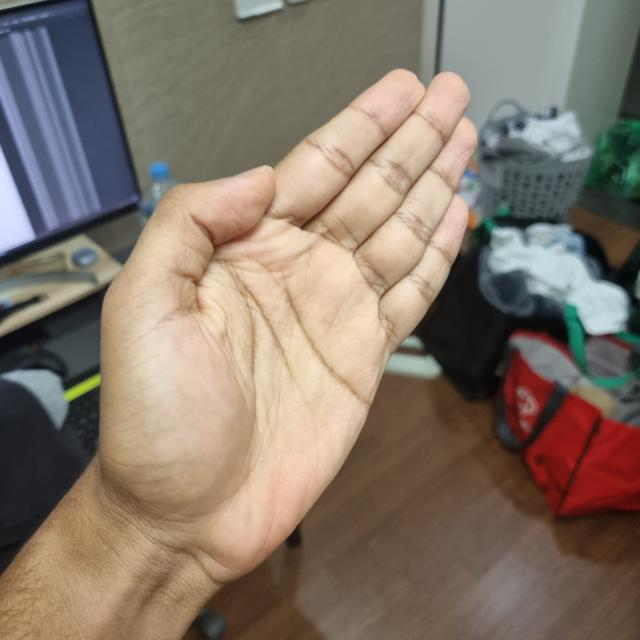Paper: (98, 68, 479, 566)
